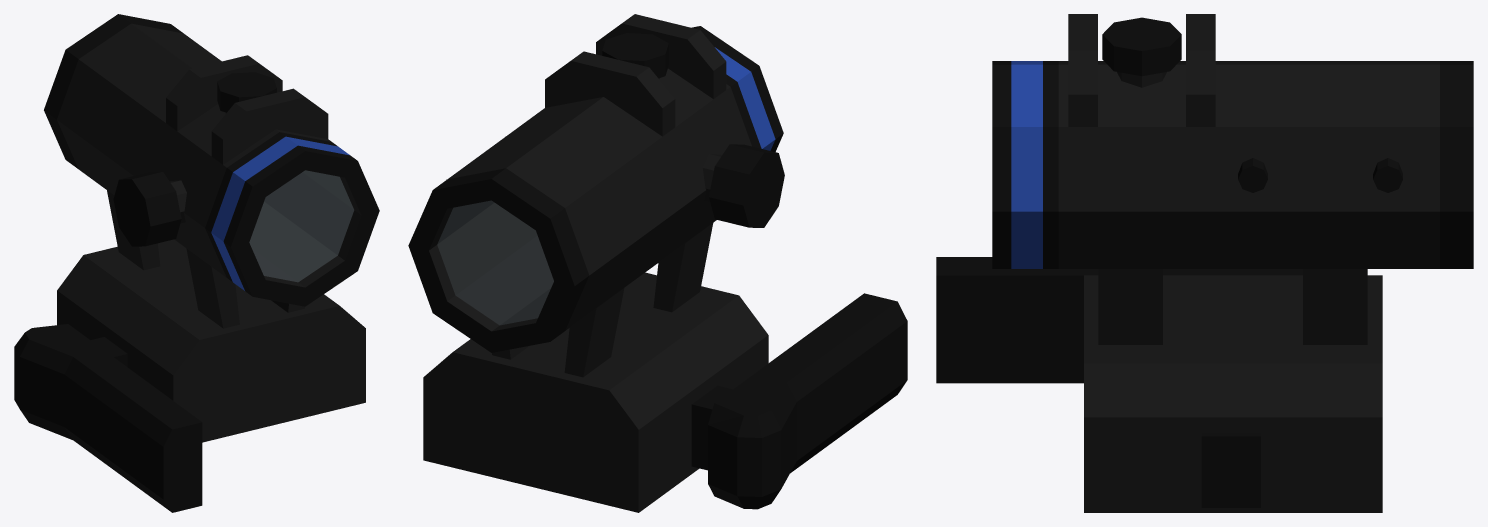
Rendered from red-dot.glb.
The picture shows the model from 3 angles, left to right: view 1: azimuth 30°, elevation 25°; view 2: azimuth 150°, elevation 25°; view 3: azimuth 270°, elevation 25°; orthographic projection. The views are drawn at different scales.
Visible parts, largest first — view 1: red-dot-malha; view 2: red-dot-malha; view 3: red-dot-malha.
Boxes of the visible parts, <box> form: red-dot-malha: <box>14,14,379,512</box>; red-dot-malha: <box>408,14,907,512</box>; red-dot-malha: <box>936,14,1473,512</box>.
Bounding box in the file's own units: 0.0434 × 0.0491 × 0.0557.
